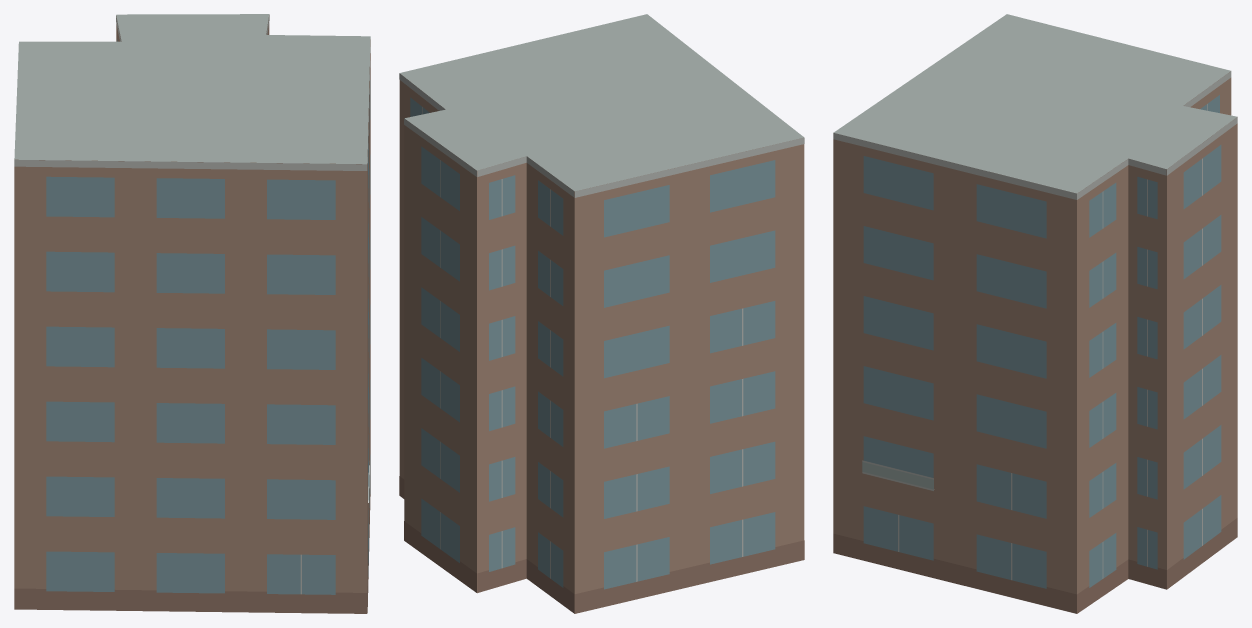
The model's file is survey-upis-32951011.glb.
The picture shows the model from 3 angles, left to right: view 1: azimuth 30°, elevation 25°; view 2: azimuth 150°, elevation 25°; view 3: azimuth 270°, elevation 25°; orthographic projection. The views are drawn at different scales.
Parts seen in each view (by area): view 1: survey-upis-32951011.tmp; view 2: survey-upis-32951011.tmp; view 3: survey-upis-32951011.tmp.
Boxes of the visible parts, <box> form: survey-upis-32951011.tmp: <box>14,14,370,613</box>; survey-upis-32951011.tmp: <box>399,14,804,613</box>; survey-upis-32951011.tmp: <box>833,14,1237,613</box>.
Size of the model in its own units: 14.48 by 15.8 by 13.78.
